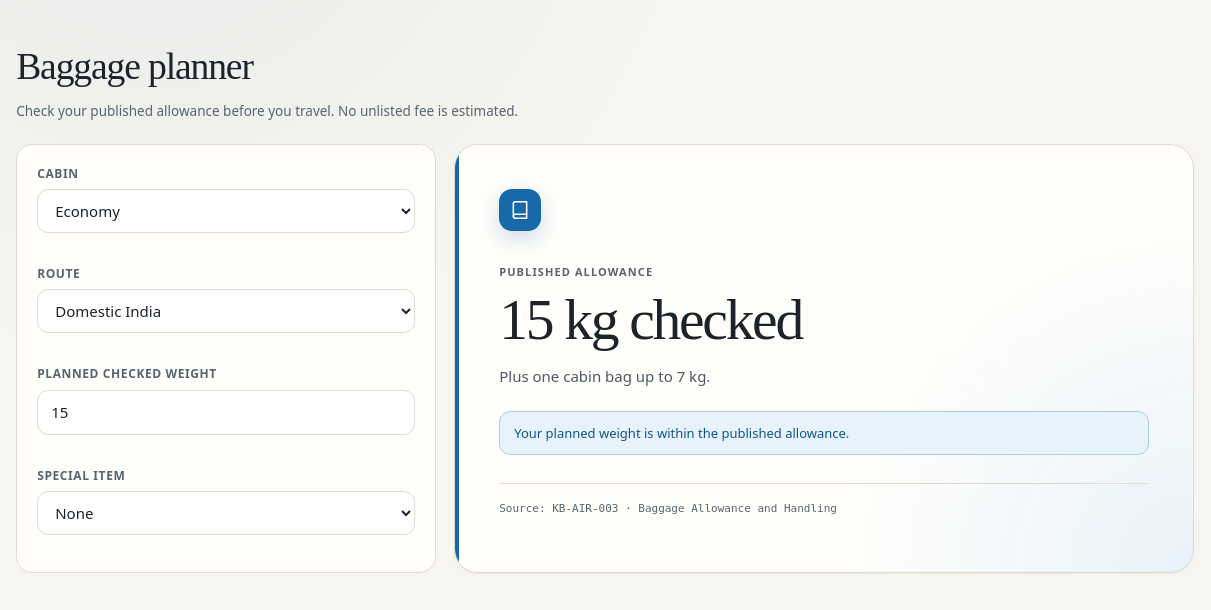
BaggageCalculator › announces a large Business-cabin excess result with its policy source
Select "Business" in the dropdown labelled "Cabin": coordinates (226, 211) [37,189,415,233]
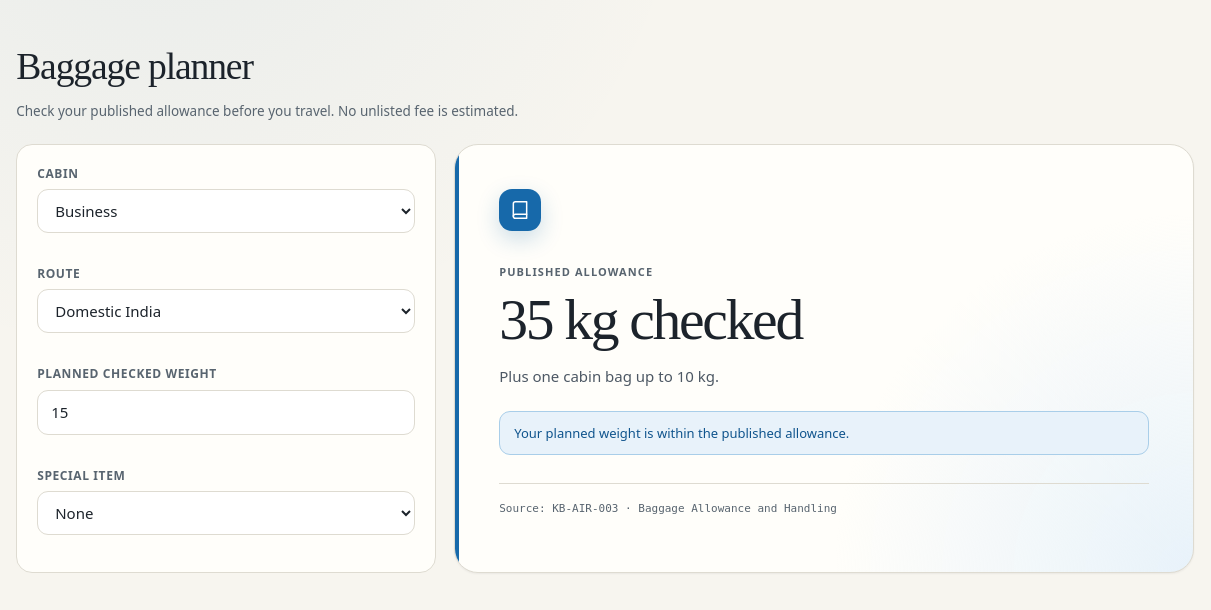
Replace the text in the number field labelled "Planned checked weight" with "190": coordinates (226, 412) [37,390,415,435]
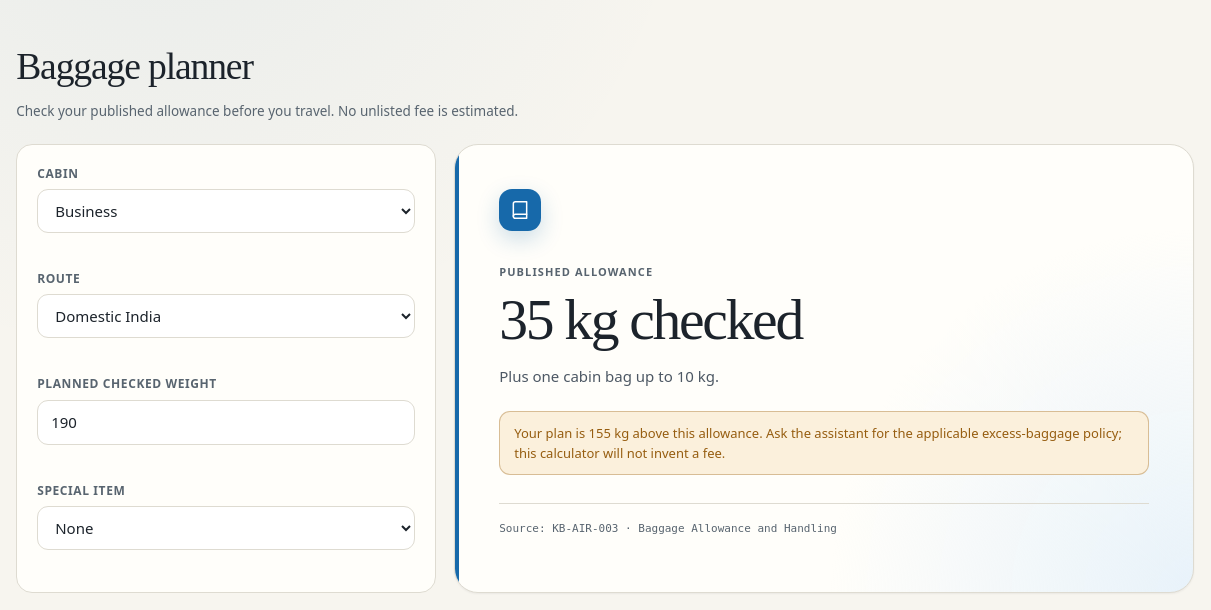
Expected: the message named "Baggage allowance result" shows "Published allowance", [499,264,653,279]
Expected: the message named "Baggage allowance result" shows "35 kg checked", [454,144,1194,593]
Expected: the message named "Baggage allowance result" shows "155 kg above this allowance", [454,144,1194,593]
